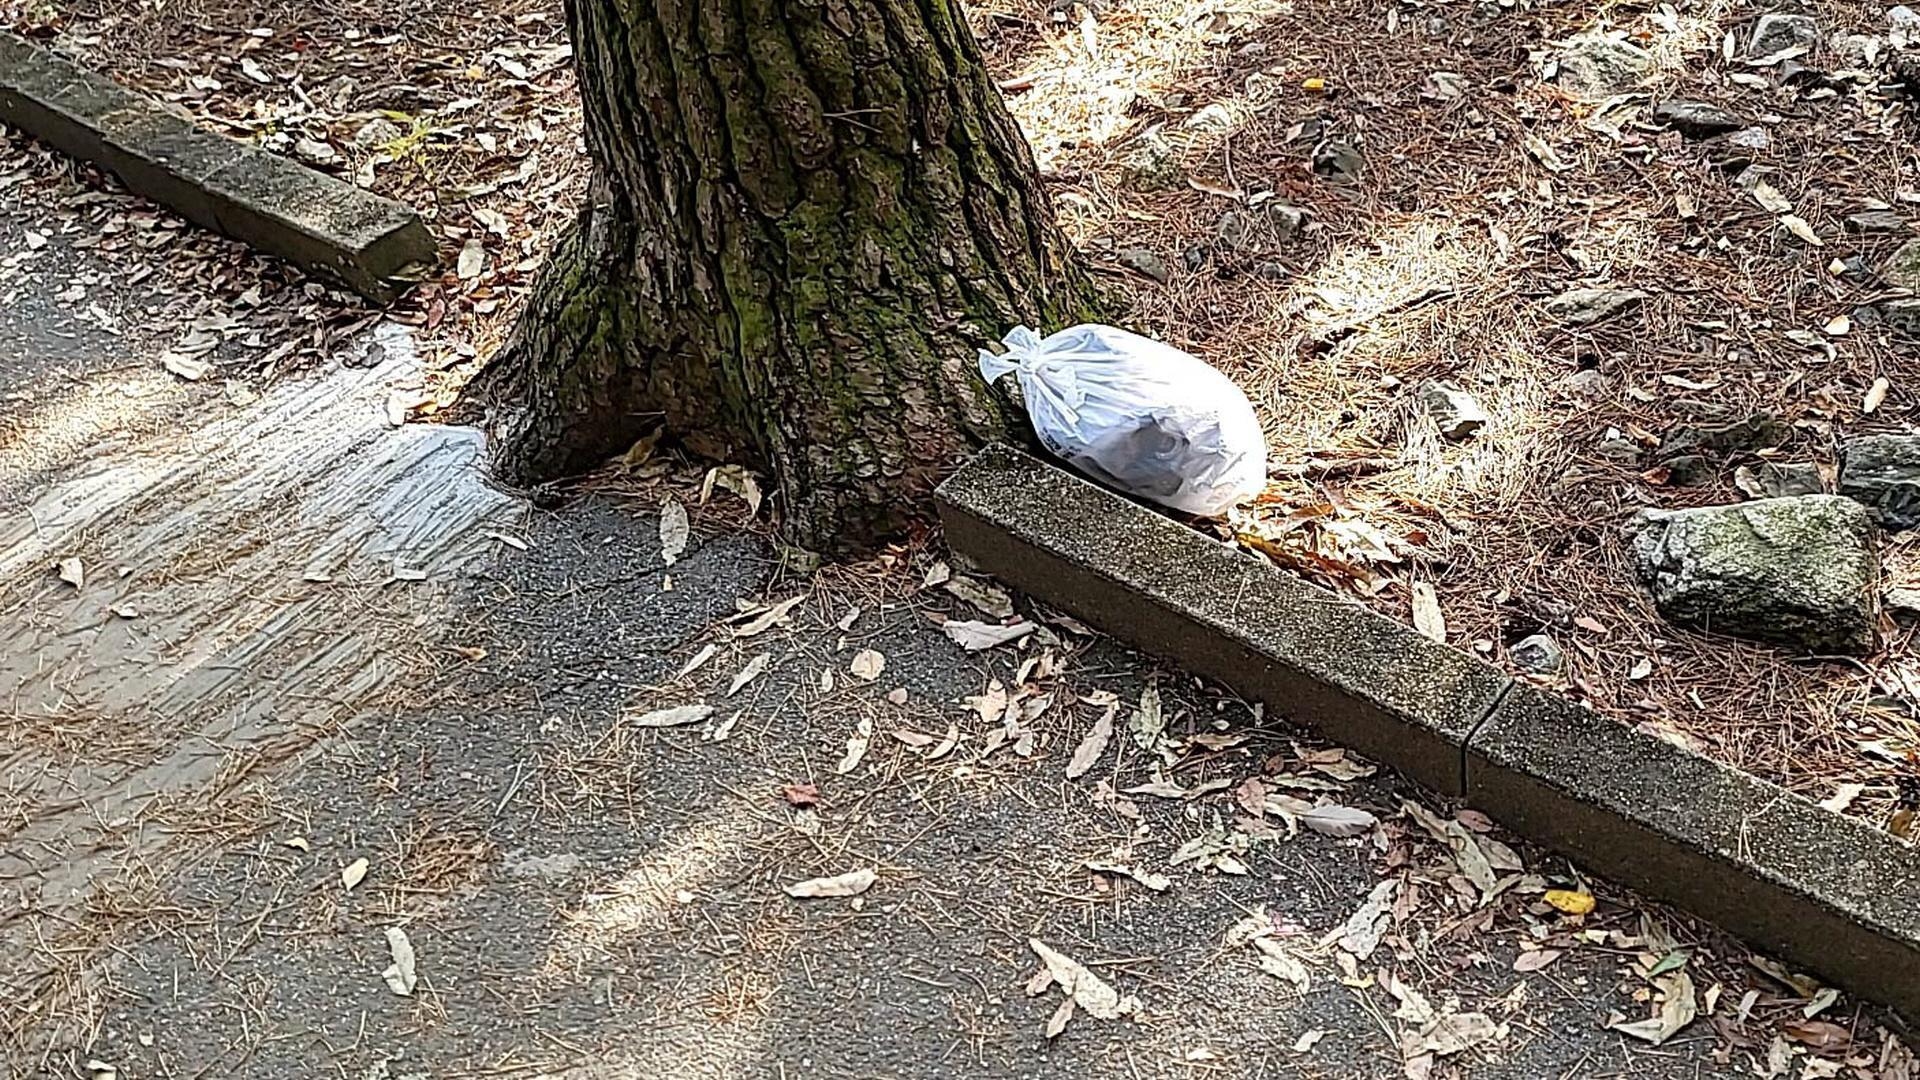white_bag: (965, 314, 1276, 541)
